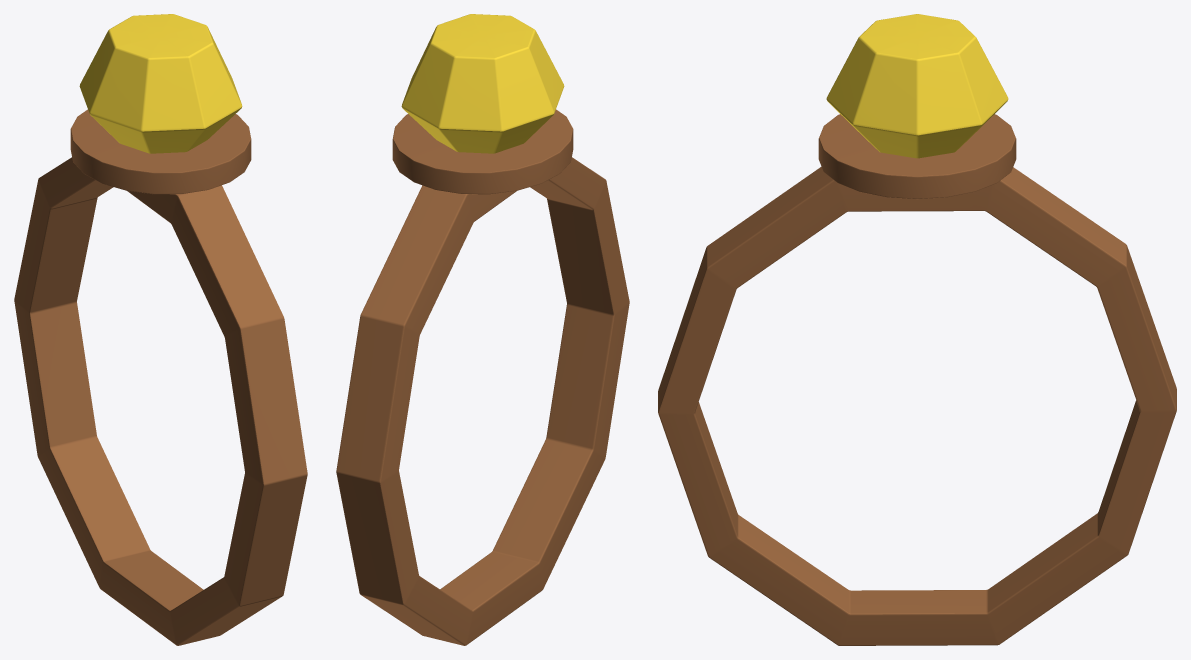
The model's file is jiezhi.fbx.
3 renders of one model, left to right at view 1: azimuth 30°, elevation 25°; view 2: azimuth 150°, elevation 25°; view 3: azimuth 270°, elevation 25°, orthographic. The views are drawn at different scales.
Parts seen in each view (by area): view 1: jiez_group1_pCylinder2, pCylinder3; view 2: jiez_group1_pCylinder2, pCylinder3; view 3: jiez_group1_pCylinder2, pCylinder3.
Boxes of the visible parts, x1,y1,x2,y2 form: jiez_group1_pCylinder2: (14,109,307,645); pCylinder3: (79,14,242,153); jiez_group1_pCylinder2: (336,109,629,645); pCylinder3: (401,14,564,153); jiez_group1_pCylinder2: (658,114,1176,645); pCylinder3: (826,14,1008,158).
Size of the model in its own units: 0.5 by 1.4 by 1.79.
